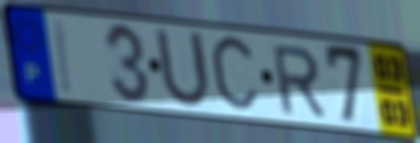3: (102, 20, 152, 107)
7: (321, 40, 367, 128)
C: (208, 31, 263, 118)
I: (53, 17, 76, 98)
R: (269, 43, 328, 118)
U: (152, 23, 213, 112)
